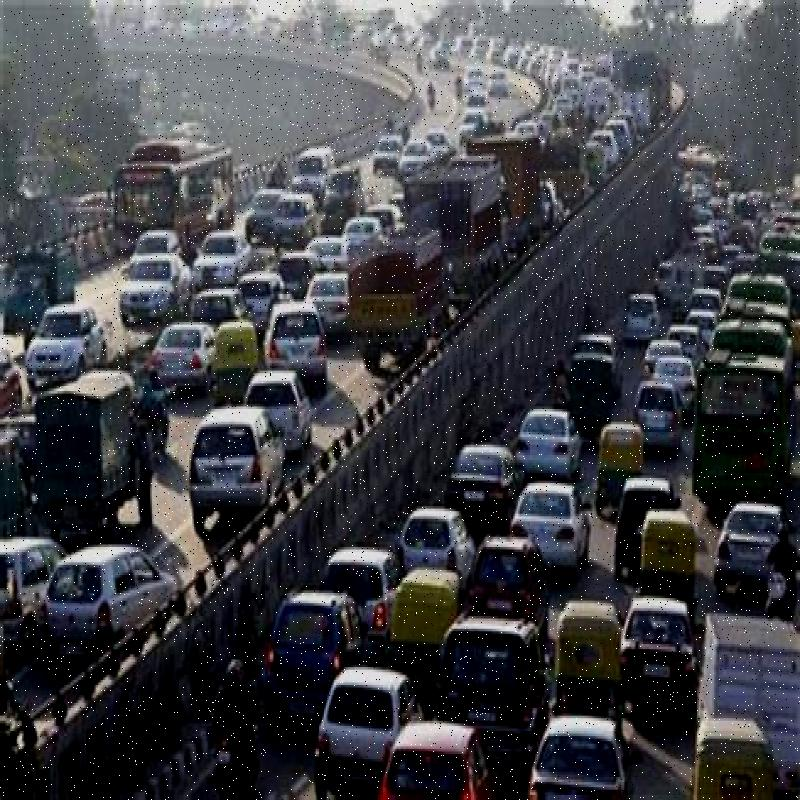car: (423, 624, 550, 777), (166, 399, 279, 533), (49, 532, 153, 662), (265, 590, 364, 713), (322, 660, 409, 794), (506, 482, 603, 592), (379, 714, 492, 800), (612, 605, 698, 710), (322, 542, 394, 667), (524, 717, 631, 800), (696, 495, 784, 586), (0, 519, 64, 639), (507, 411, 593, 497), (270, 300, 334, 402), (142, 319, 217, 403), (241, 365, 308, 458), (284, 268, 353, 358), (468, 535, 533, 627), (405, 500, 476, 584), (31, 305, 100, 390), (113, 254, 184, 332), (184, 225, 248, 296), (638, 346, 694, 416), (628, 386, 682, 449)
